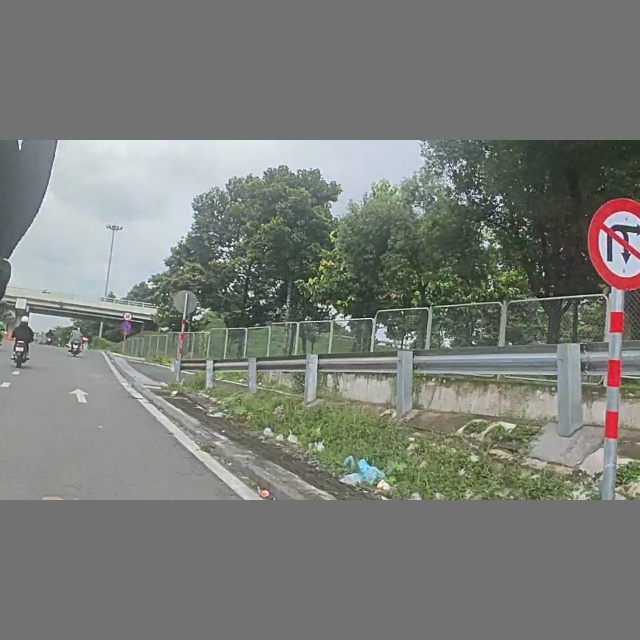P.124d: (586, 197, 640, 291)
P.127*40: (123, 311, 134, 321)
P.130: (121, 322, 131, 332)
